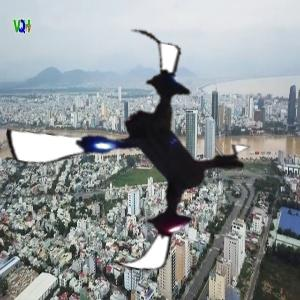drone: (6, 27, 260, 281)
